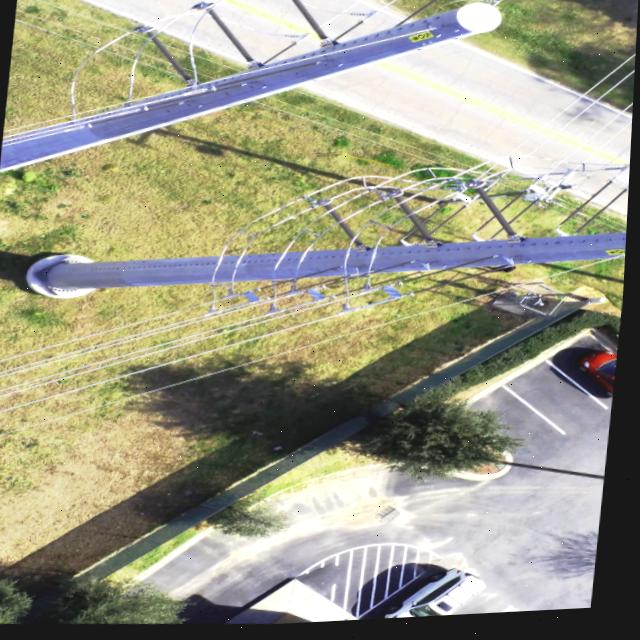poles: (2, 8, 501, 172), (26, 181, 629, 300)
wires: (0, 279, 417, 428)
